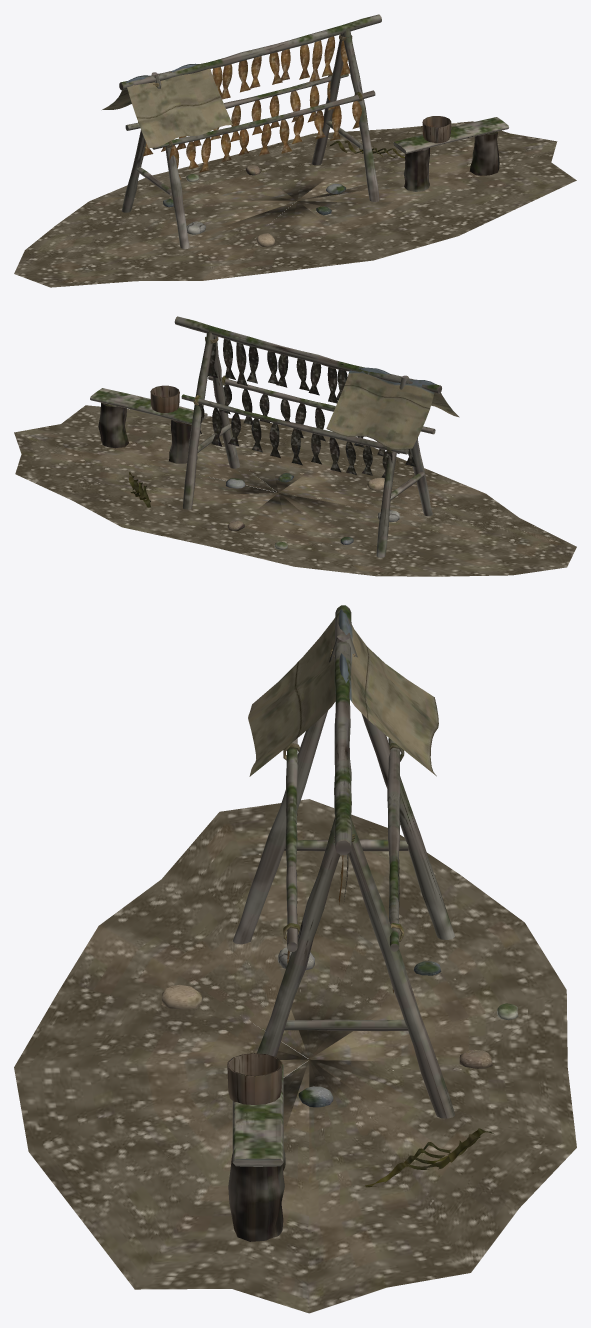
Rendered from kit_drying_rack_hero.glb.
3 renders of one model, top to bottom at view 1: azimuth 30°, elevation 25°; view 2: azimuth 150°, elevation 25°; view 3: azimuth 270°, elevation 25°, orthographic. The views are drawn at different scales.
Parts seen in each view (by area): view 1: body, cover, plank_01; view 2: body, cover, plank_01, fish_12; view 3: body, cover, plank_01.
Part boxes in pixels (x1,y1,x2,y2): body: (14,14,576,287); cover: (102,63,232,148); plank_01: (393,117,508,153); body: (14,316,576,576); cover: (326,367,459,449); plank_01: (90,388,207,424); fish_12: (236,342,247,385); body: (14,605,576,1313); cover: (248,609,438,776); plank_01: (232,1064,283,1166).
Size of what is drawn, in the model's own units: 7.14 by 2.09 by 3.3.
2 materials, 2 textured.
